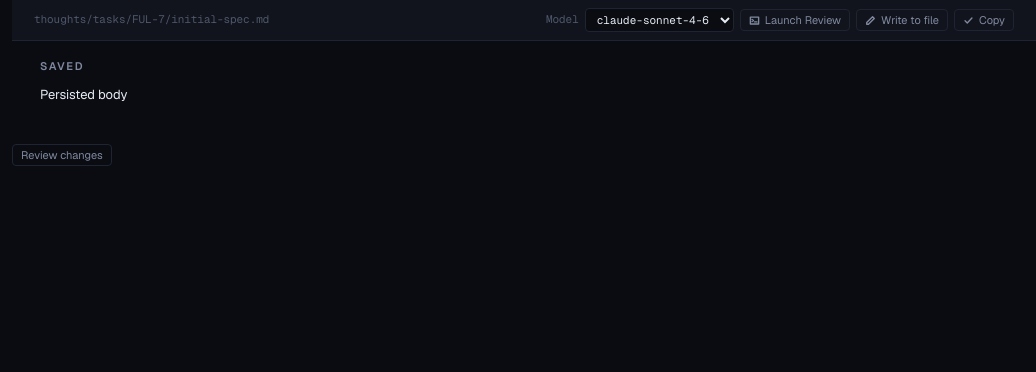
Scenario: SpecTab › keeps review changes collapsed by default and expands on click
Expected: the text "Clarify rollout assumptions and clean acceptance criteria." is not shown
Step 1. Click the button "Review changes" → click(62, 155), box [12,144,112,166]
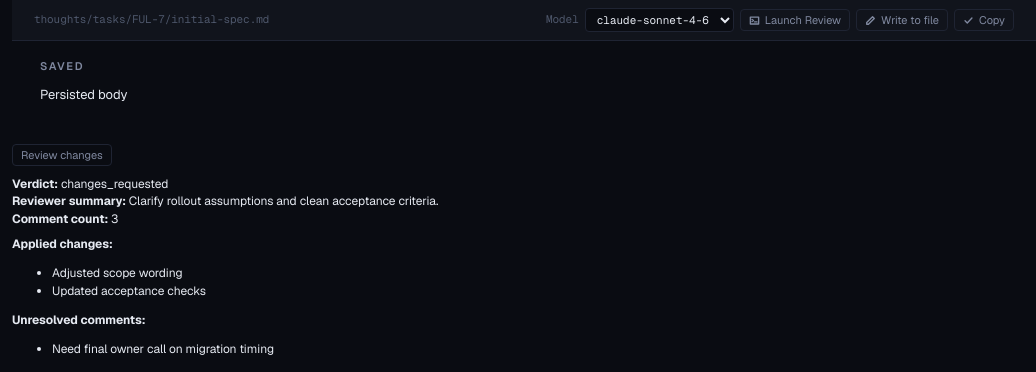
Expected: the text "Clarify rollout assumptions and clean acceptance criteria." is shown, [129,193,438,209]
